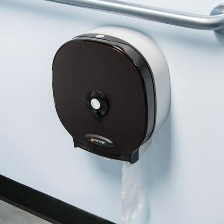plastic_box: (45, 19, 178, 169)
tissue: (115, 149, 148, 223)
